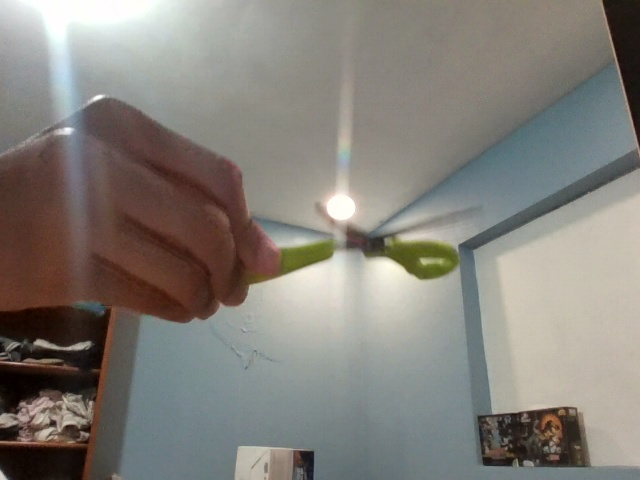tijeras: (251, 168, 490, 293)
